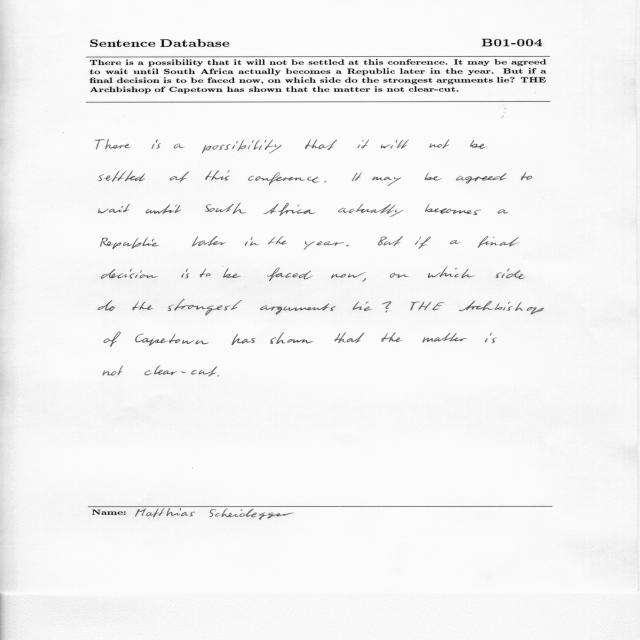word: (459, 301, 544, 315), (168, 300, 242, 316), (202, 140, 282, 154), (135, 333, 209, 346), (248, 172, 319, 185), (338, 204, 403, 217), (260, 304, 336, 315), (144, 366, 217, 377), (100, 237, 159, 249), (425, 203, 481, 215), (264, 203, 315, 216), (267, 268, 313, 281), (101, 269, 158, 279), (456, 173, 507, 184), (428, 267, 475, 278), (270, 332, 313, 344), (99, 171, 145, 182), (478, 236, 519, 248), (205, 203, 246, 214), (422, 333, 467, 343), (95, 140, 131, 150), (304, 241, 344, 250), (305, 139, 337, 150), (192, 236, 226, 246), (146, 205, 181, 214), (410, 302, 445, 311), (372, 176, 401, 186), (496, 269, 525, 279), (335, 333, 364, 343), (99, 204, 130, 213), (232, 334, 256, 345), (104, 332, 121, 347), (381, 140, 409, 149), (206, 171, 231, 181), (378, 236, 403, 246), (331, 272, 366, 279), (381, 332, 402, 342), (170, 171, 189, 182), (415, 236, 431, 249), (352, 301, 372, 311), (103, 366, 123, 376), (98, 300, 116, 311), (430, 140, 450, 149), (223, 268, 241, 278), (133, 302, 153, 311), (268, 236, 287, 245), (470, 140, 487, 149), (424, 173, 442, 181), (245, 237, 259, 246), (485, 333, 497, 343), (357, 140, 369, 149), (200, 268, 211, 277), (382, 302, 391, 313), (390, 273, 409, 278), (152, 139, 161, 149), (352, 172, 362, 181), (521, 172, 532, 180), (181, 269, 189, 279), (498, 209, 508, 214), (174, 144, 185, 148), (450, 240, 461, 244), (362, 278, 366, 282), (346, 245, 349, 247), (325, 181, 327, 183), (218, 375, 220, 376)
